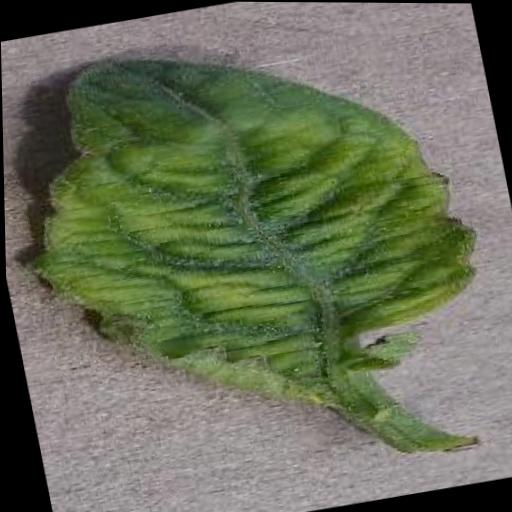Yellow Leaf Curl Virus: (4, 1, 502, 444)
